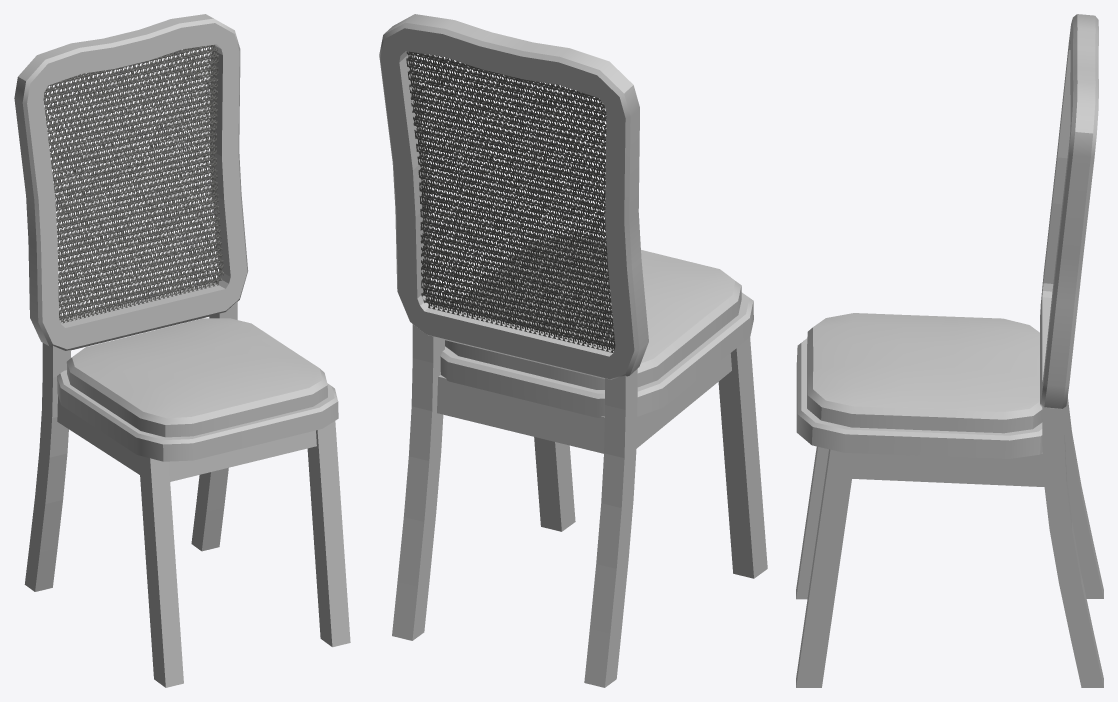
File: DiningChair.obj
3 views of the same model, side by side, from view 1: azimuth 30°, elevation 25°; view 2: azimuth 150°, elevation 25°; view 3: azimuth 270°, elevation 25° (orthographic). The views are drawn at different scales.
Parts seen in each view (by area): view 1: backNet, seatBack, seatcushion, seatwood, leg2, leg3, leg1, leg4, skirt3, skirt1; view 2: backNet, seatBack, seatcushion, leg1, leg4, seatwood, leg2, skirt2, leg3, skirt1; view 3: seatcushion, seatBack, seatwood, leg4, leg3, skirt4, leg1, leg2.
Part boxes in pixels (x1,y1,x2,y2): backNet: (43,44,223,323); seatBack: (14,14,248,350); seatcushion: (66,318,327,437); seatwood: (57,370,338,461); leg2: (138,455,183,687); leg3: (307,421,350,647); leg1: (24,343,70,591); leg4: (191,301,237,551); skirt3: (169,430,316,481); skirt1: (57,396,139,474); backNet: (406,51,615,352); seatBack: (379,14,648,379); seatcushion: (445,236,741,389); leg1: (584,369,637,687); leg4: (392,324,444,640); seatwood: (440,292,753,417); leg2: (718,337,767,578); skirt2: (437,375,604,453); leg3: (534,437,575,531); skirt1: (636,353,731,448); seatcushion: (807,313,1042,433); seatBack: (1040,14,1098,409); seatwood: (796,338,1042,458); leg4: (1042,406,1103,687); leg3: (796,449,855,687); skirt4: (852,453,1044,486); leg1: (1064,396,1103,598); leg2: (796,446,828,599).
Size of the model in its own units: 1.05 by 2.47 by 1.18.
